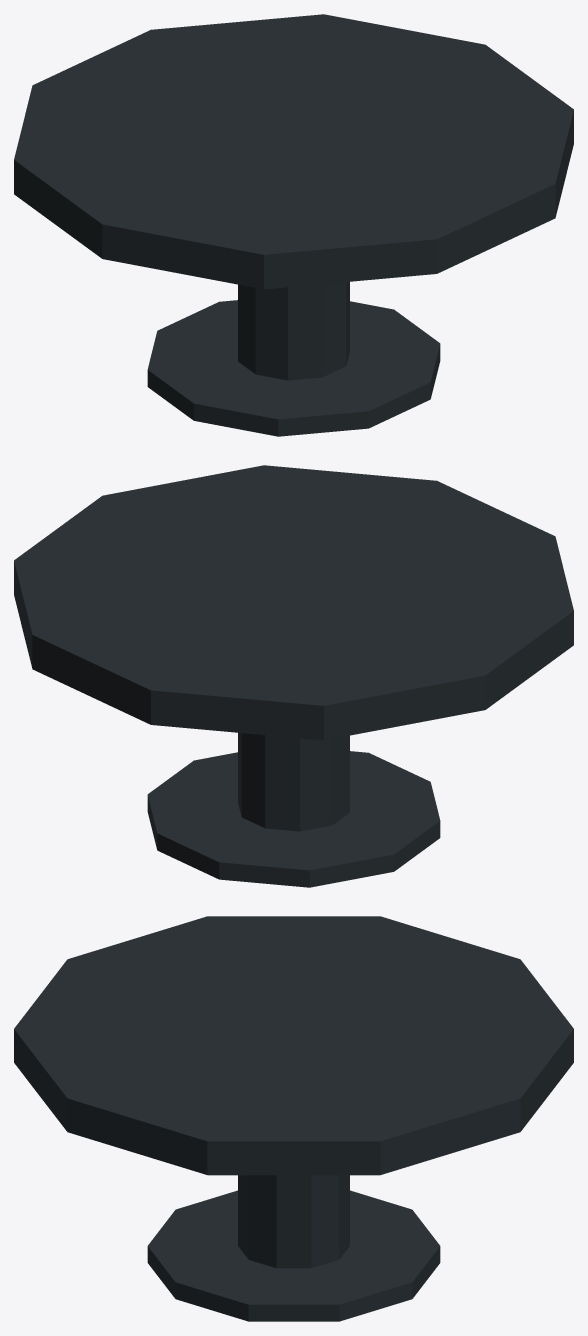
Rendered from round_table.fbx.
3 renders of one model, top to bottom at view 1: azimuth 30°, elevation 25°; view 2: azimuth 150°, elevation 25°; view 3: azimuth 270°, elevation 25°, orthographic. The views are drawn at different scales.
Parts seen in each view (by area): view 1: Cylinder; view 2: Cylinder; view 3: Cylinder.
Boxes of the visible parts, x1,y1,x2,y2 form: Cylinder: (14,14,573,436); Cylinder: (14,465,573,887); Cylinder: (14,916,573,1321).
Bounding box in the file's own units: 5.71 × 2.77 × 6.
